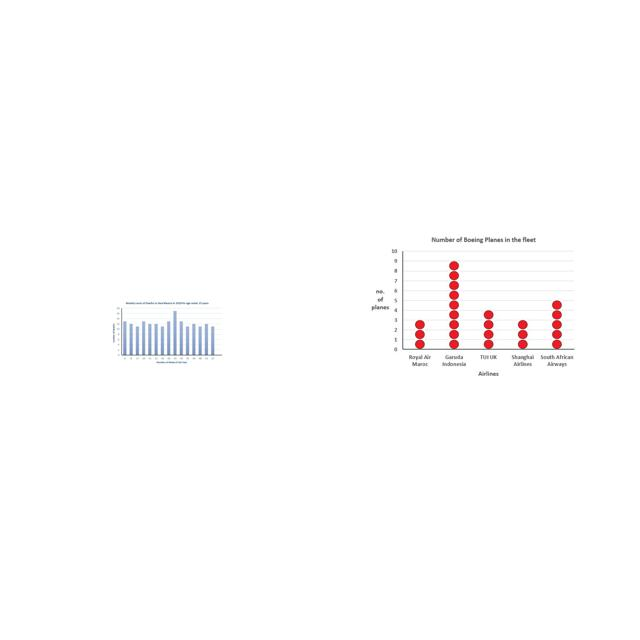Graph: (369, 233, 576, 379), (110, 300, 225, 367)
